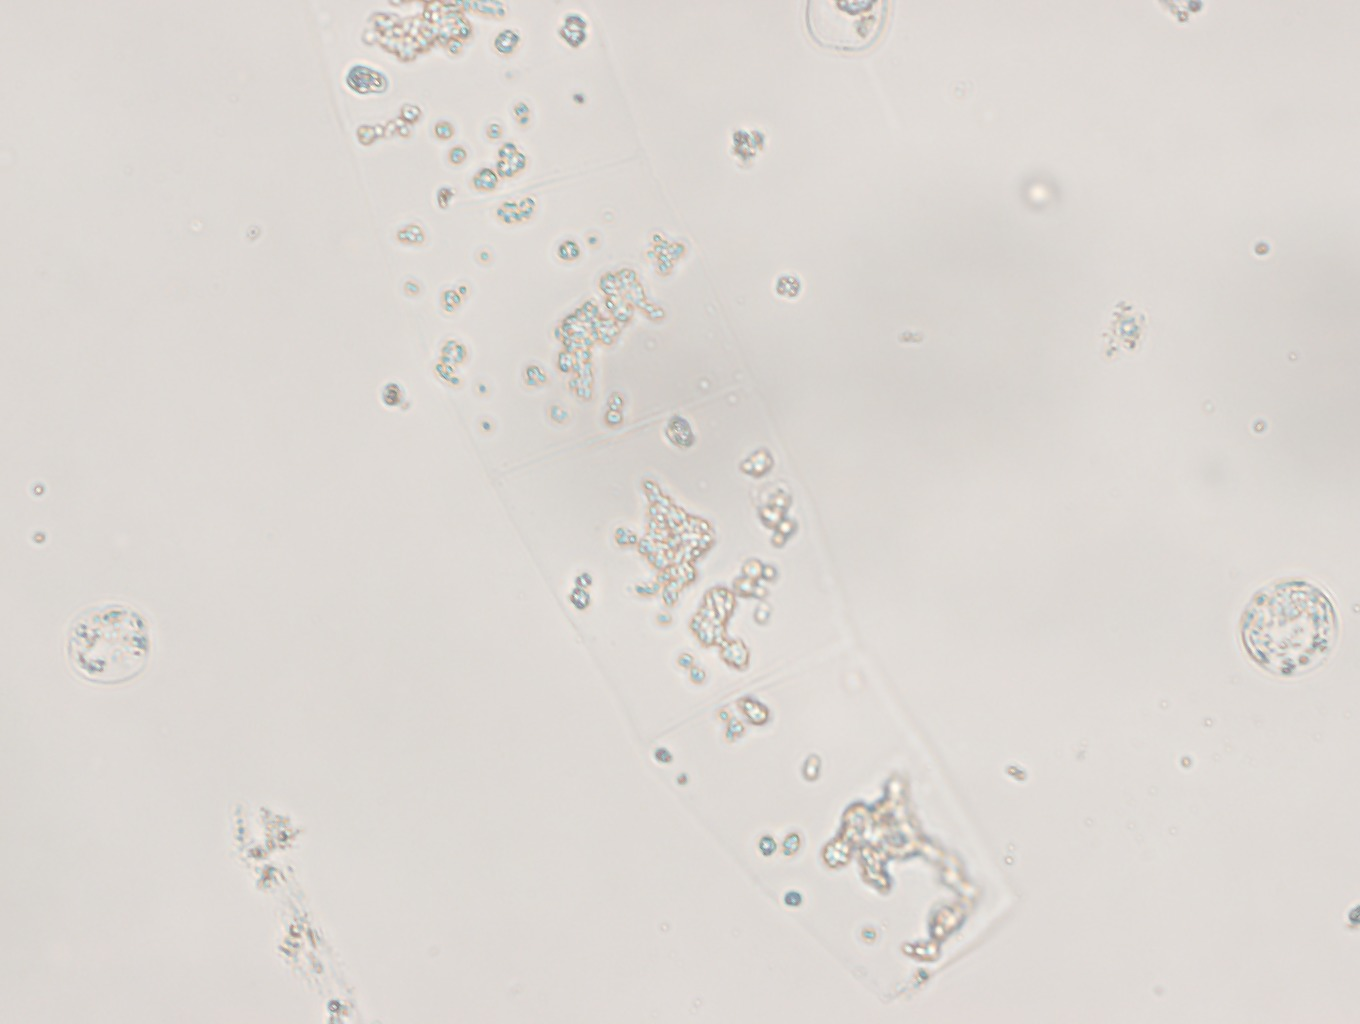helicotheca: (314, 1, 1018, 1002)
